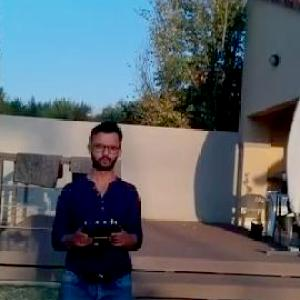follow: (46, 111, 150, 299)
